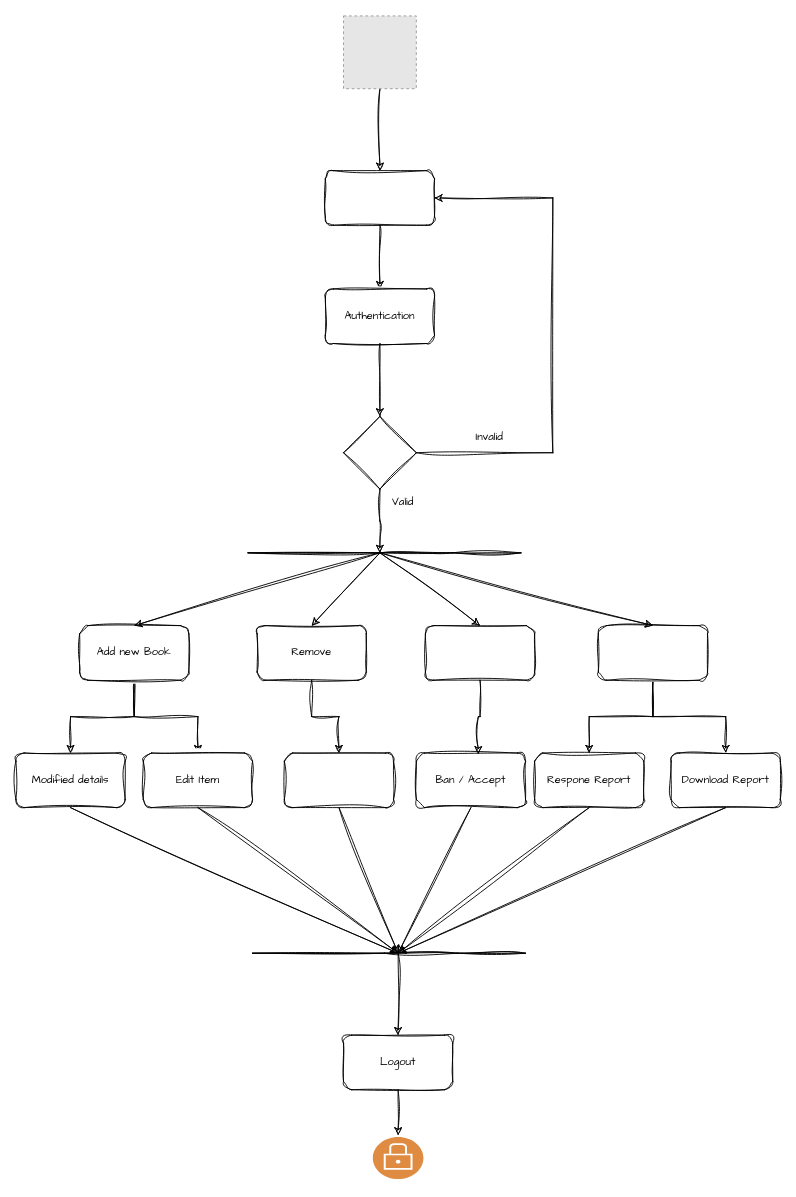
Some shapes in this 796 by 1197 pixel diagram are drawn without their labels. Grey dashed boxes stand in for pictures. Here are the shapes that lost their labels. From the top down, the box of each, then its label:
(324, 170, 435, 225): Login
(343, 415, 416, 489): Check
(425, 625, 535, 680): Manage Viewer
(597, 625, 708, 680): Manage report from viewer
(283, 752, 394, 808): Remove Item
